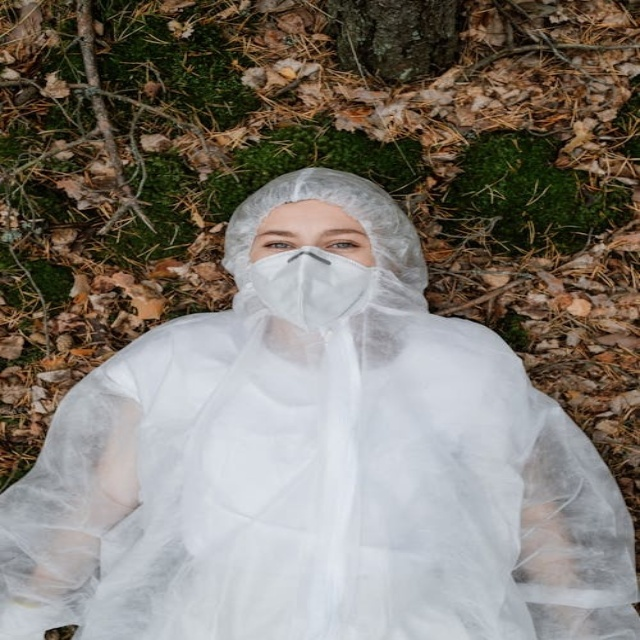Mascara: (242, 246, 380, 330)
Sin_gafas: (255, 224, 364, 255)
